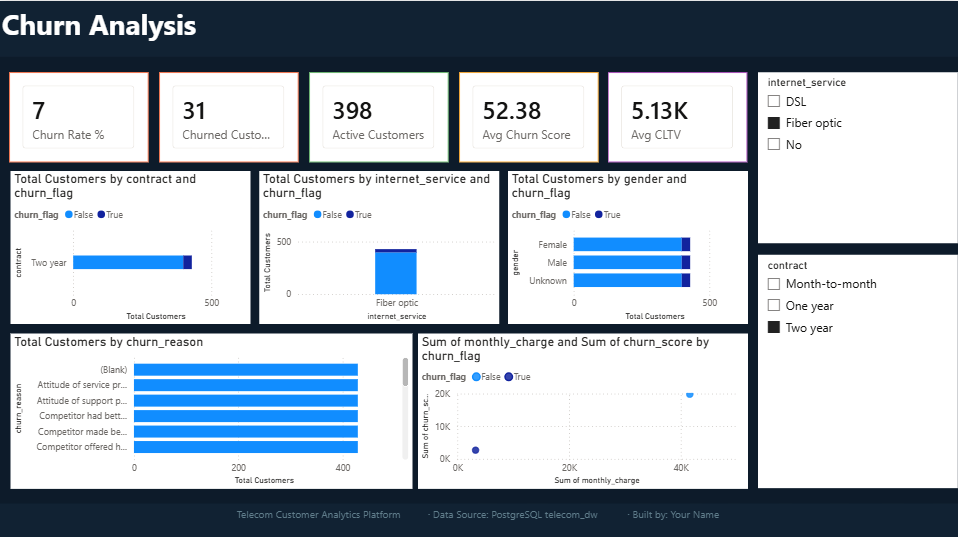

This screenshot's page, from the dashboard's own definition file:
{"tool":"powerbi","page":{"name":"Churn Analysis","canvas":[1280,720],"ordinal":2},"visuals":[{"type":"textbox","box":[0,0,1280,74.3],"z":0},{"type":"cardVisual","fields":{"Data":["gold fact_customer_snapshot.Churn Rate %"]},"box":[15,94.9,185.7,120],"z":1000},{"type":"cardVisual","fields":{"Data":["gold fact_customer_snapshot.Churned Customers"]},"box":[215,94.9,185.7,120],"z":2000},{"type":"cardVisual","fields":{"Data":["gold fact_customer_snapshot.Active Customers"]},"box":[414.3,94.9,185.7,120],"z":3000},{"type":"cardVisual","fields":{"Data":["gold fact_customer_snapshot.Avg Churn Score"]},"box":[614.3,94.9,185.7,120],"z":4000},{"type":"cardVisual","fields":{"Data":["gold fact_customer_snapshot.Avg CLTV"]},"box":[812.9,94.9,185.7,120],"z":5000},{"type":"barChart","fields":{"Category":["gold dim_plan.contract"],"Y":["gold fact_customer_snapshot.Total Customers"],"Series":["gold fact_customer_snapshot.churn_flag"]},"box":[16.9,226.3,320,204.3],"z":6000},{"type":"columnChart","fields":{"Category":["gold dim_plan.internet_service"],"Y":["gold fact_customer_snapshot.Total Customers"],"Series":["gold fact_customer_snapshot.churn_flag"]},"box":[348.3,226.3,320,204.3],"z":7000},{"type":"barChart","fields":{"Category":["gold dim_customer.gender"],"Y":["gold fact_customer_snapshot.Total Customers"],"Series":["gold fact_customer_snapshot.churn_flag"]},"box":[679.7,226.3,320,204.3],"z":8000},{"type":"clusteredBarChart","fields":{"Category":["gold vw_churn_analysis.churn_reason"],"Y":["gold fact_customer_snapshot.Total Customers"]},"box":[17.1,442.9,535.7,207.1],"z":9000},{"type":"scatterChart","fields":{"X":["Sum(gold fact_customer_snapshot.monthly_charge)"],"Y":["Sum(gold fact_customer_snapshot.churn_score)"],"Series":["gold fact_customer_snapshot.churn_flag"]},"box":[560,442.9,440,207.1],"z":10000},{"type":"textbox","box":[0,670,1280,50],"z":11000},{"type":"slicer","fields":{"Values":["gold dim_plan.internet_service"]},"box":[1013.4,95.3,266.6,228],"z":12000},{"type":"slicer","fields":{"Values":["gold dim_plan.contract"]},"box":[1013.4,339,266.6,311.3],"z":13000}]}

Visuals, with their boxes in screenshot pixels (x1, y1, x2, y2), scaled from the page's 1280x720 canvas onto the 958x537 screenshot:
textbox: bbox=(0, 0, 957, 55)
cardVisual - gold fact_customer_snapshot.Churn Rate %: bbox=(11, 71, 150, 160)
cardVisual - gold fact_customer_snapshot.Churned Customers: bbox=(161, 71, 300, 160)
cardVisual - gold fact_customer_snapshot.Active Customers: bbox=(310, 71, 449, 160)
cardVisual - gold fact_customer_snapshot.Avg Churn Score: bbox=(460, 71, 599, 160)
cardVisual - gold fact_customer_snapshot.Avg CLTV: bbox=(608, 71, 747, 160)
barChart - gold dim_plan.contract x gold fact_customer_snapshot.Total Customers: bbox=(13, 169, 252, 321)
columnChart - gold dim_plan.internet_service x gold fact_customer_snapshot.Total Customers: bbox=(261, 169, 500, 321)
barChart - gold dim_customer.gender x gold fact_customer_snapshot.Total Customers: bbox=(509, 169, 748, 321)
clusteredBarChart - gold vw_churn_analysis.churn_reason x gold fact_customer_snapshot.Total Customers: bbox=(13, 330, 414, 485)
scatterChart - Sum(gold fact_customer_snapshot.monthly_charge) x Sum(gold fact_customer_snapshot.churn_score): bbox=(419, 330, 748, 485)
textbox: bbox=(0, 500, 957, 536)
slicer - gold dim_plan.internet_service: bbox=(758, 71, 957, 241)
slicer - gold dim_plan.contract: bbox=(758, 253, 957, 485)
